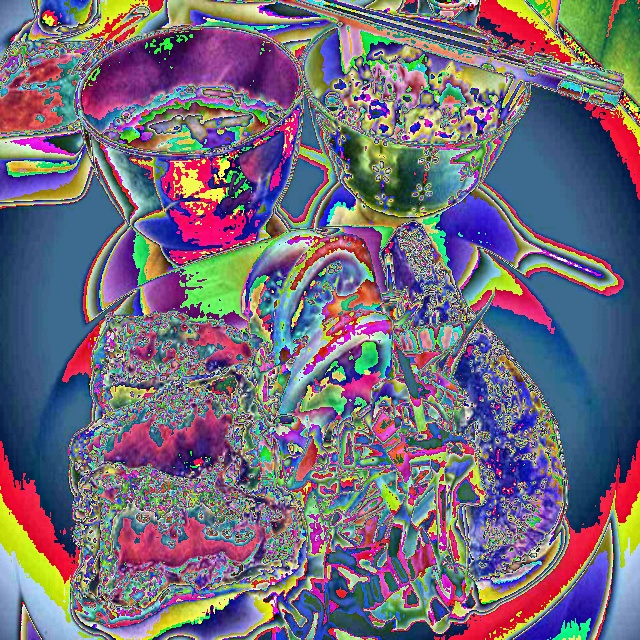background: (68, 219, 568, 639), (166, 44, 498, 141), (102, 72, 288, 153), (0, 54, 99, 134)
